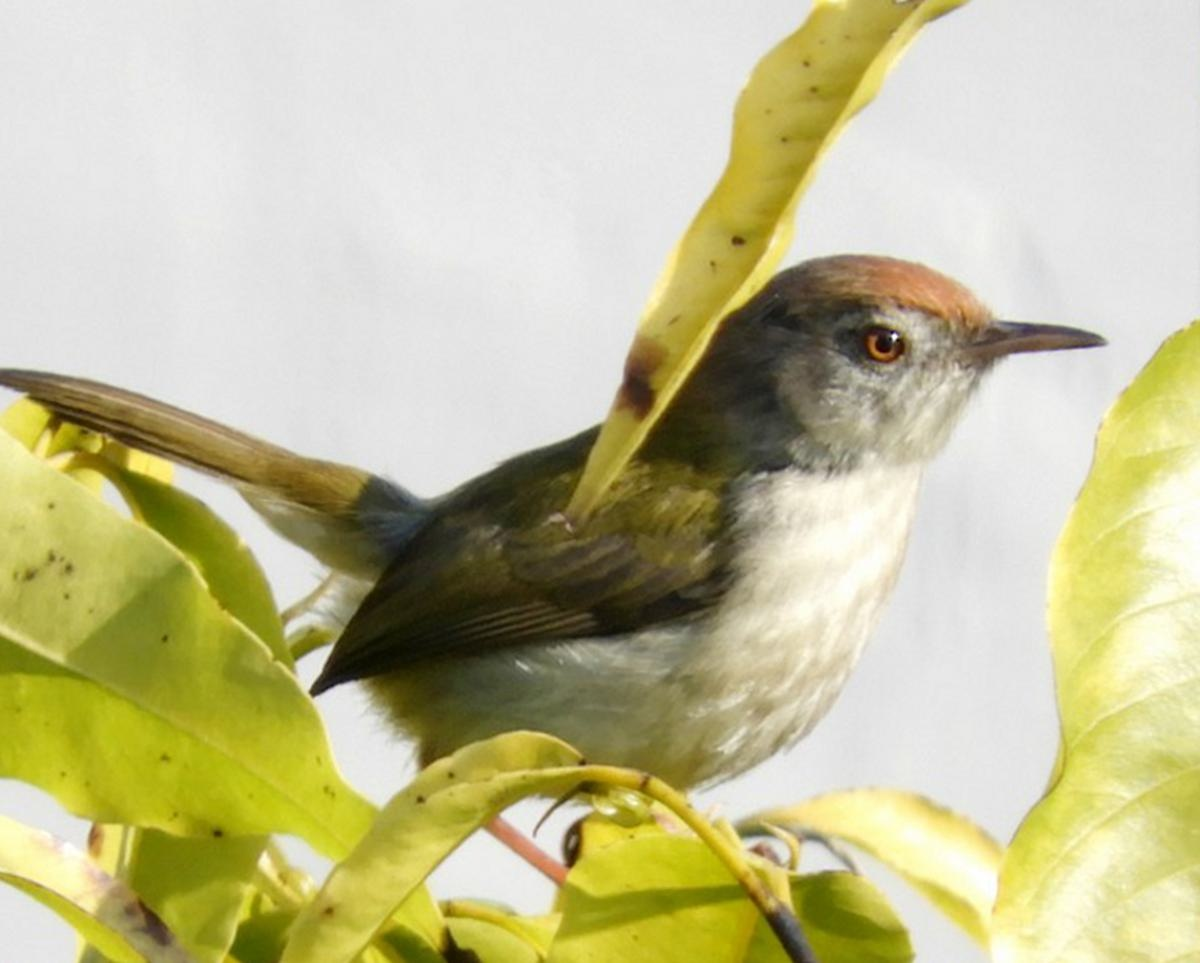tailorbird: (104, 221, 1090, 758)
